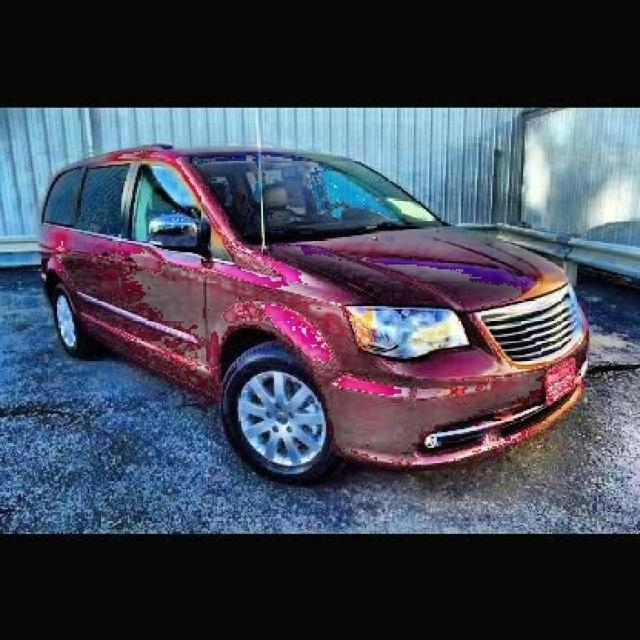maroon: (38, 144, 590, 444)
